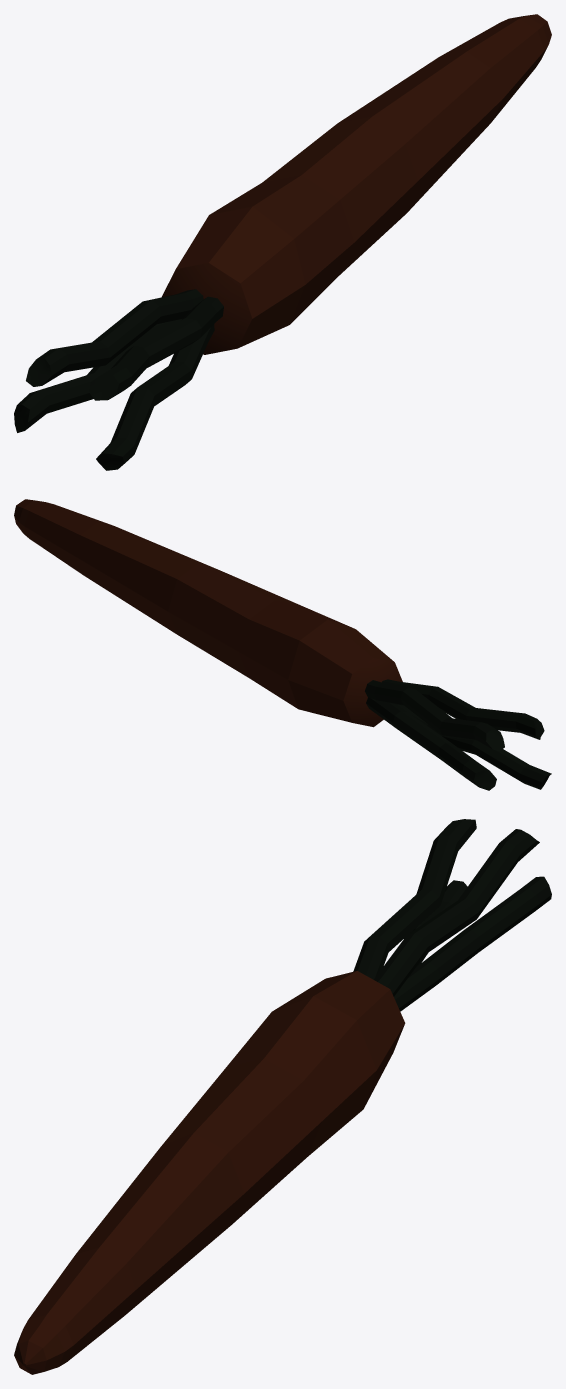
The model's file is _oodCarrot.fbx.
3 renders of one model, top to bottom at view 1: azimuth 90°, elevation 25°; view 2: azimuth 150°, elevation 25°; view 3: azimuth 270°, elevation 25°, orthographic. The views are drawn at different scales.
Visible parts, largest first — view 1: polySurface1; view 2: polySurface1; view 3: polySurface1.
Boxes of the visible parts, bbox=[...] form: polySurface1: bbox=[14, 14, 551, 470]; polySurface1: bbox=[14, 499, 551, 790]; polySurface1: bbox=[14, 819, 551, 1374].
Bounding box in the file's own units: 80.98 × 10.94 × 40.28.
